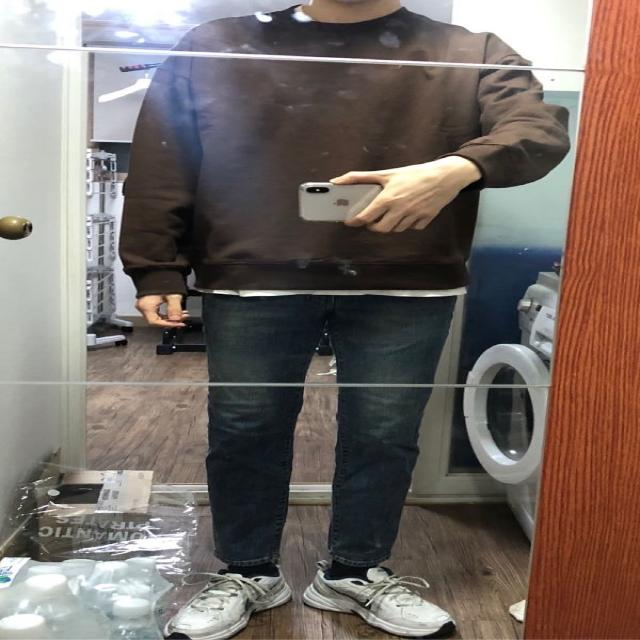denimpants: (202, 292, 458, 567)
mtm: (119, 3, 573, 300)
